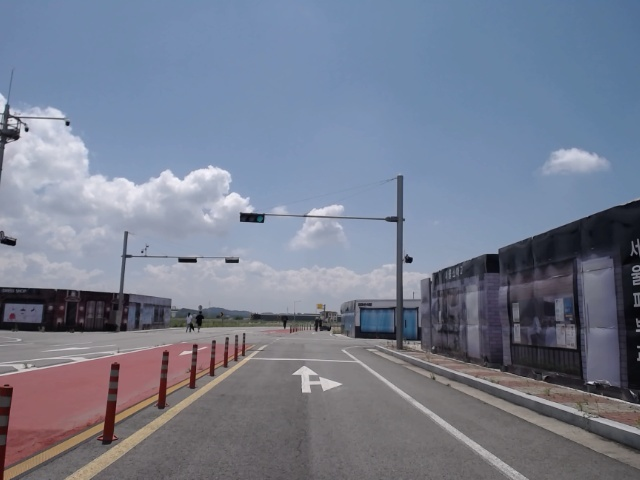green_3: (240, 212, 266, 223)
